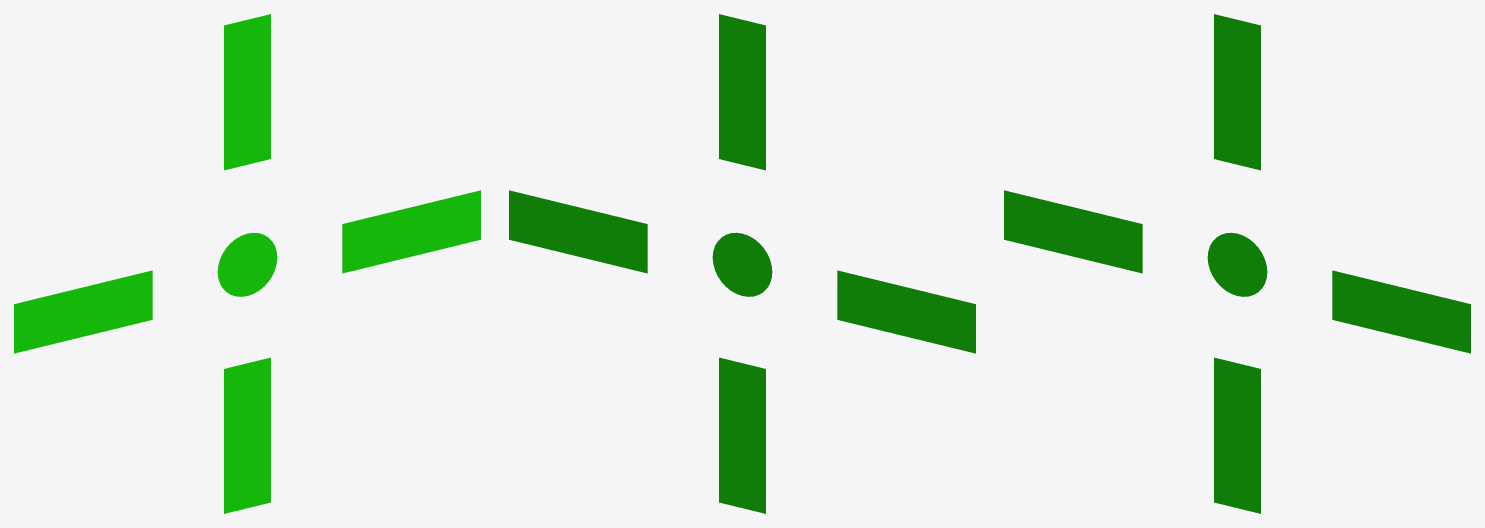
Rendered from crosshair.obj.
3 views of the same model, side by side, from view 1: azimuth 30°, elevation 25°; view 2: azimuth 150°, elevation 25°; view 3: azimuth 330°, elevation 25° (orthographic).
Parts seen in each view (by area): view 1: Circle; view 2: Circle; view 3: Circle.
Boxes of the visible parts, x1,y1,x2,y2 form: Circle: [14, 14, 480, 513]; Circle: [509, 14, 975, 513]; Circle: [1004, 14, 1470, 513].
Size of the model in its own units: 1.79 by 1.79 by 0.
Materials: 1 (1 with a texture image).
